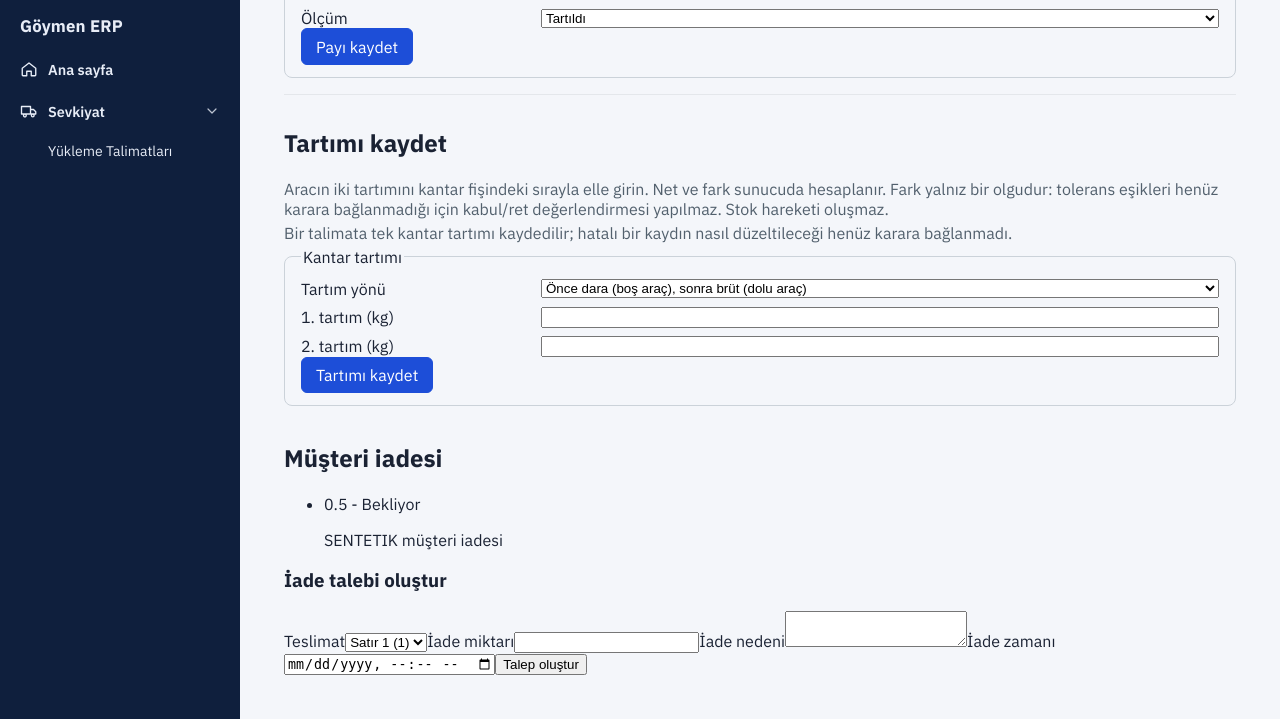
Test: L-02-DETAIL › keeps the completed command visible and locked when its fresh read fails
(page scrolled)
Type "0.25" into the field labelled "İade miktarı".
click(607, 643); type("0.25")  # box [514,632,699,653]
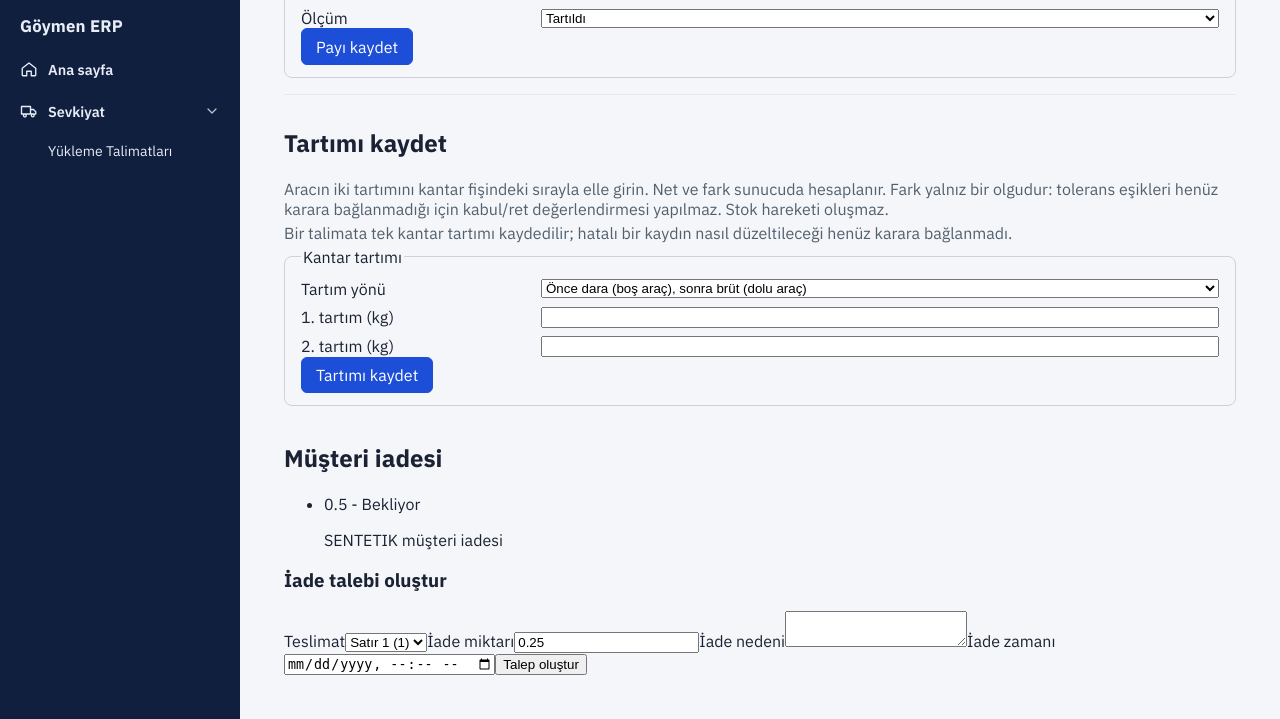
Type "Fresh read başarısız" into the text box labelled "İade nedeni".
click(876, 629); type("Fresh read başarısız")  # box [785,611,967,647]
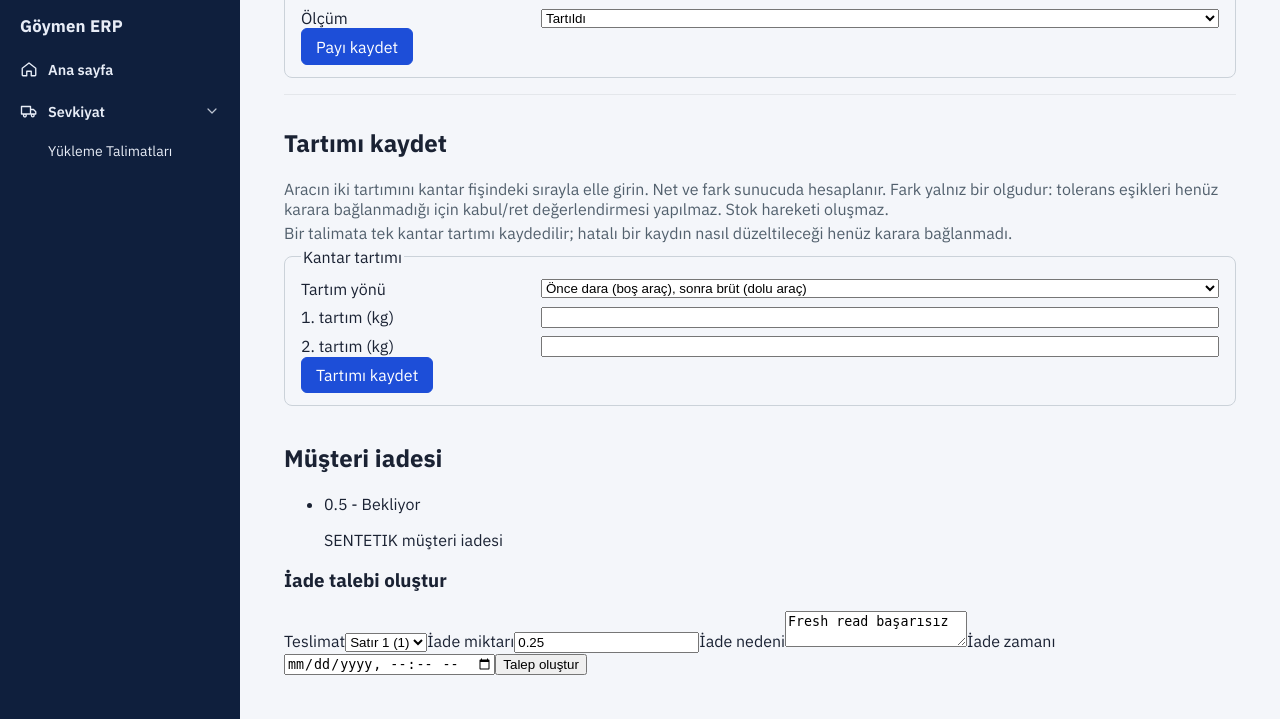
Type "2026-10-04T09:00" into the field labelled "İade zamanı".
click(390, 665); type("2026-10-04T09:00")  # box [284,654,495,675]
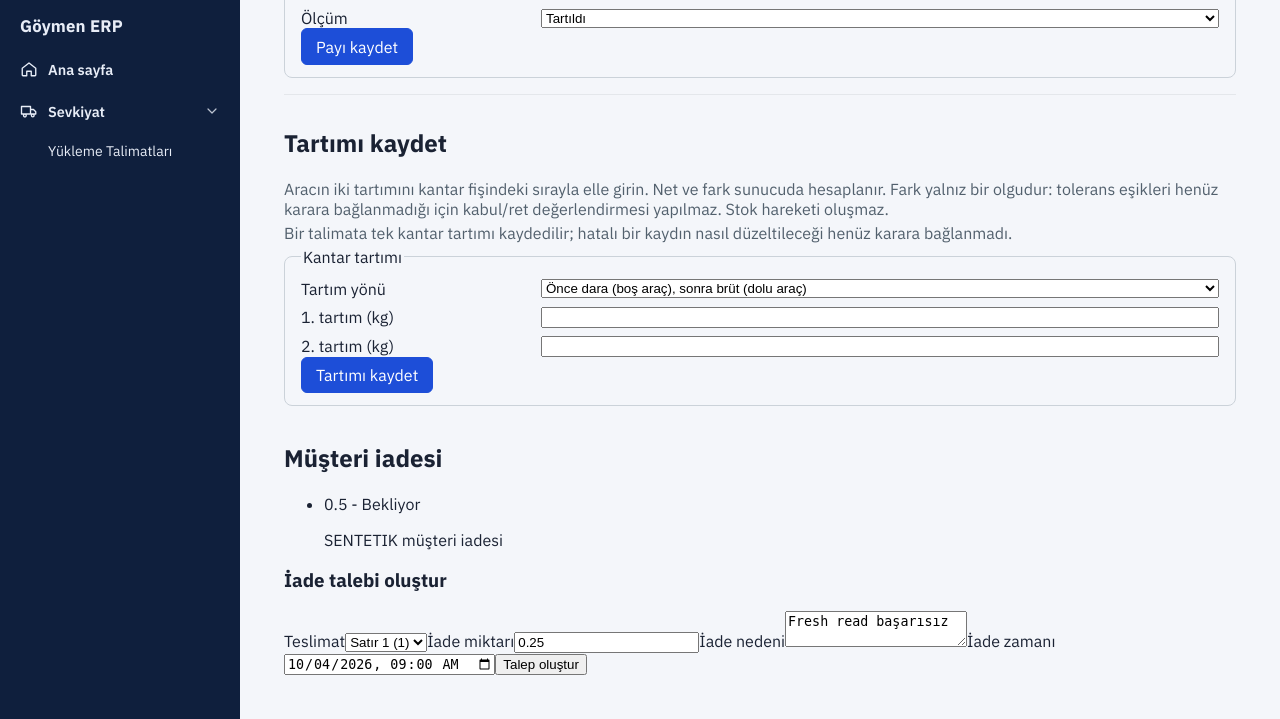
Click the button "Talep oluştur".
click(541, 665)  # box [495,654,587,675]
(page scrolled)
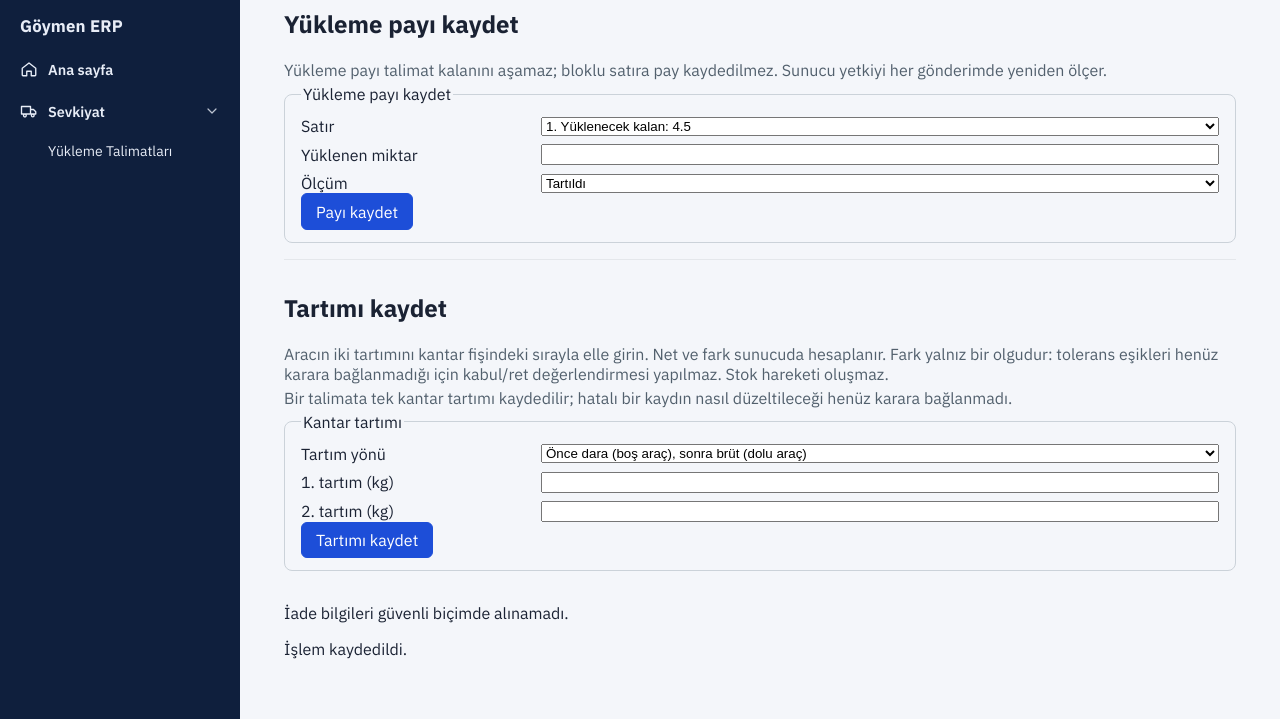
Now the text "İşlem kaydedildi." is shown, box [284,639,407,659]
Now the button "Talep oluştur" is gone
